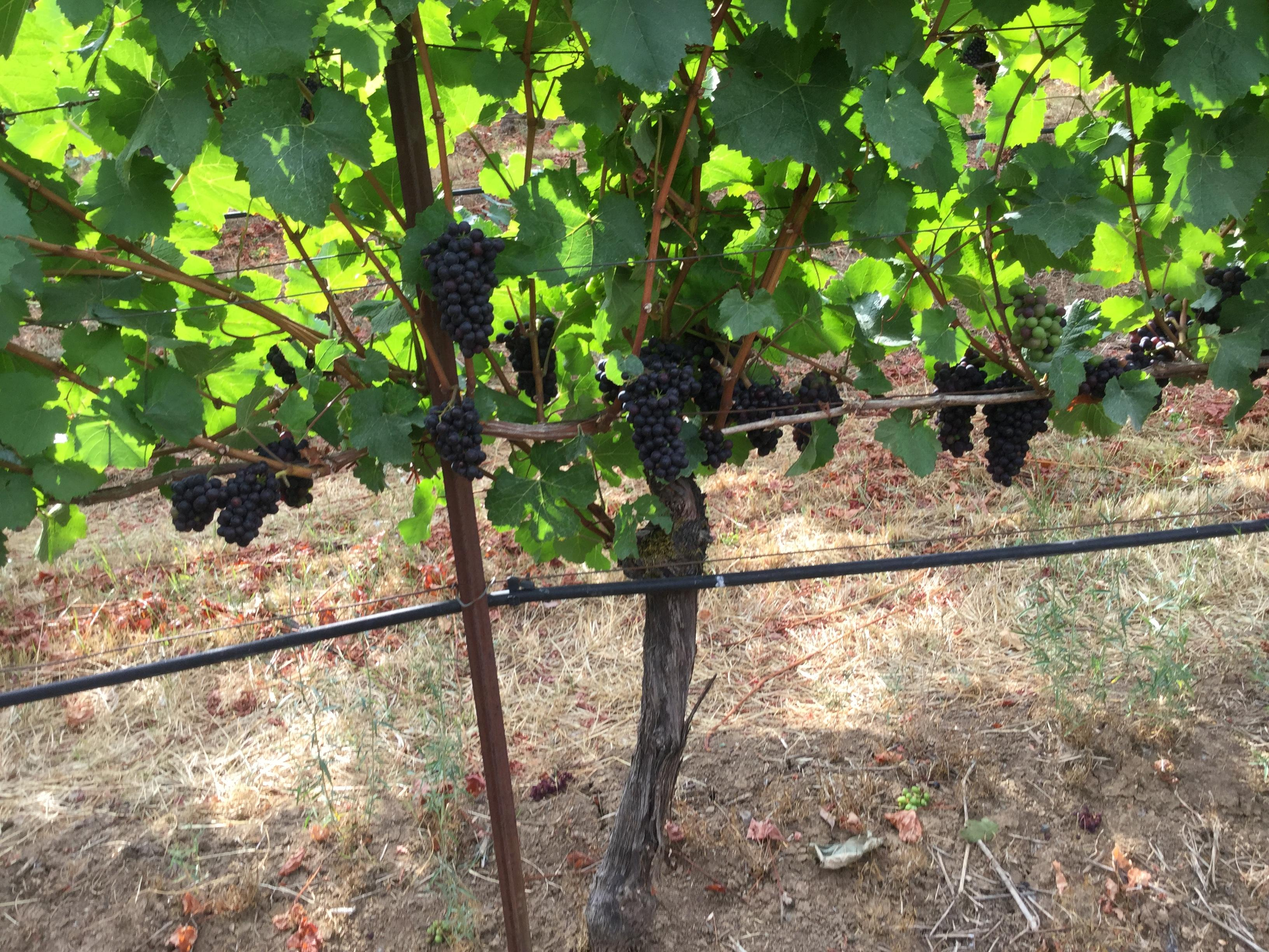leaf: (221, 79, 373, 226), (712, 25, 859, 177), (498, 169, 645, 286), (1163, 109, 1268, 229), (1154, 0, 1268, 110), (573, 0, 710, 90), (117, 56, 212, 178), (1002, 164, 1117, 256), (190, 0, 324, 75), (1081, 0, 1195, 86), (486, 467, 596, 541), (79, 156, 176, 238), (860, 69, 940, 167), (825, 0, 916, 77), (348, 384, 425, 465), (129, 366, 204, 444), (0, 372, 67, 455), (849, 160, 912, 236), (874, 408, 940, 477), (559, 63, 621, 133), (142, 0, 206, 64), (611, 493, 672, 560), (710, 288, 783, 340), (1101, 371, 1160, 430), (31, 457, 105, 502), (1208, 329, 1263, 389), (325, 22, 384, 76), (35, 503, 86, 562), (470, 51, 524, 100), (917, 305, 958, 363), (1045, 353, 1085, 407), (0, 470, 36, 529), (0, 185, 36, 237), (0, 0, 27, 58), (0, 533, 7, 565), (566, 112, 586, 121), (517, 64, 523, 84), (608, 77, 617, 86), (565, 71, 576, 76), (589, 66, 594, 70), (473, 68, 475, 75), (702, 184, 704, 190), (477, 84, 479, 88), (608, 128, 610, 130), (1204, 4, 1205, 5), (169, 0, 170, 1)
